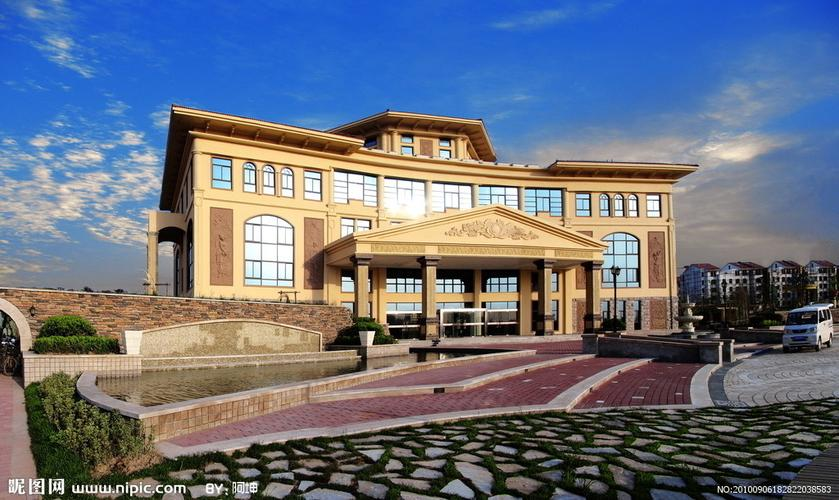buildings: (127, 97, 708, 332)
sky_cloud: (0, 5, 828, 137)
